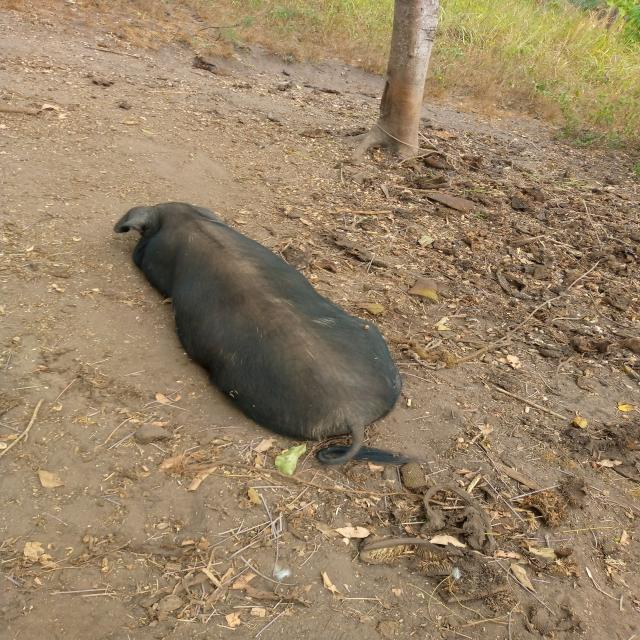pig: (50, 148, 490, 512)
